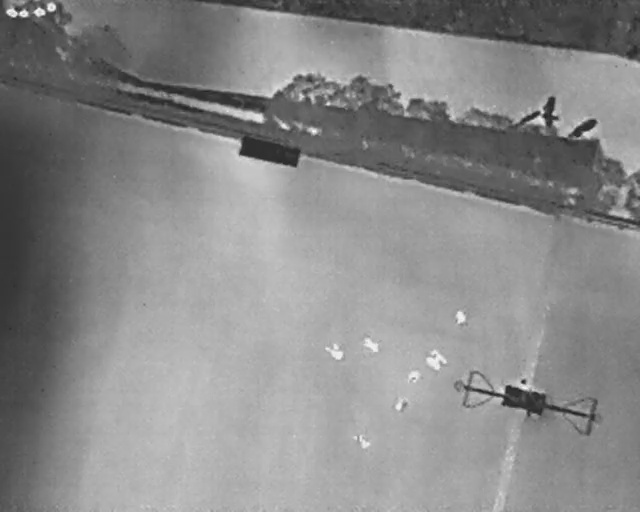Person: (420, 346, 450, 375), (320, 337, 349, 364), (360, 332, 383, 355), (349, 430, 372, 452), (391, 395, 411, 416), (406, 368, 421, 385), (454, 310, 467, 325)
